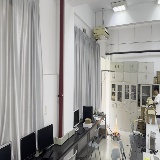fire: (113, 117, 118, 135)
